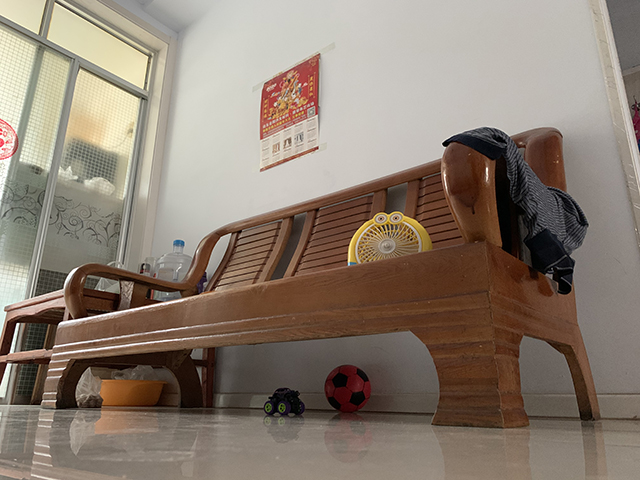sofa: (39, 125, 605, 425)
table: (1, 287, 120, 407)
